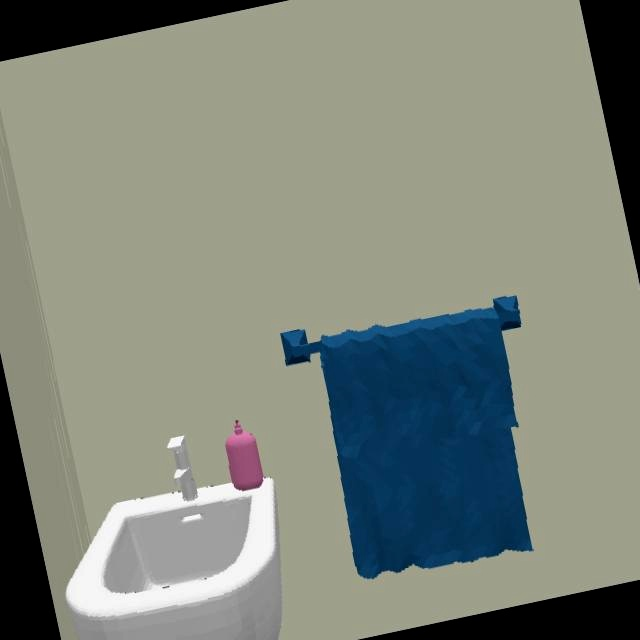washbasin: (65, 435, 285, 640)
